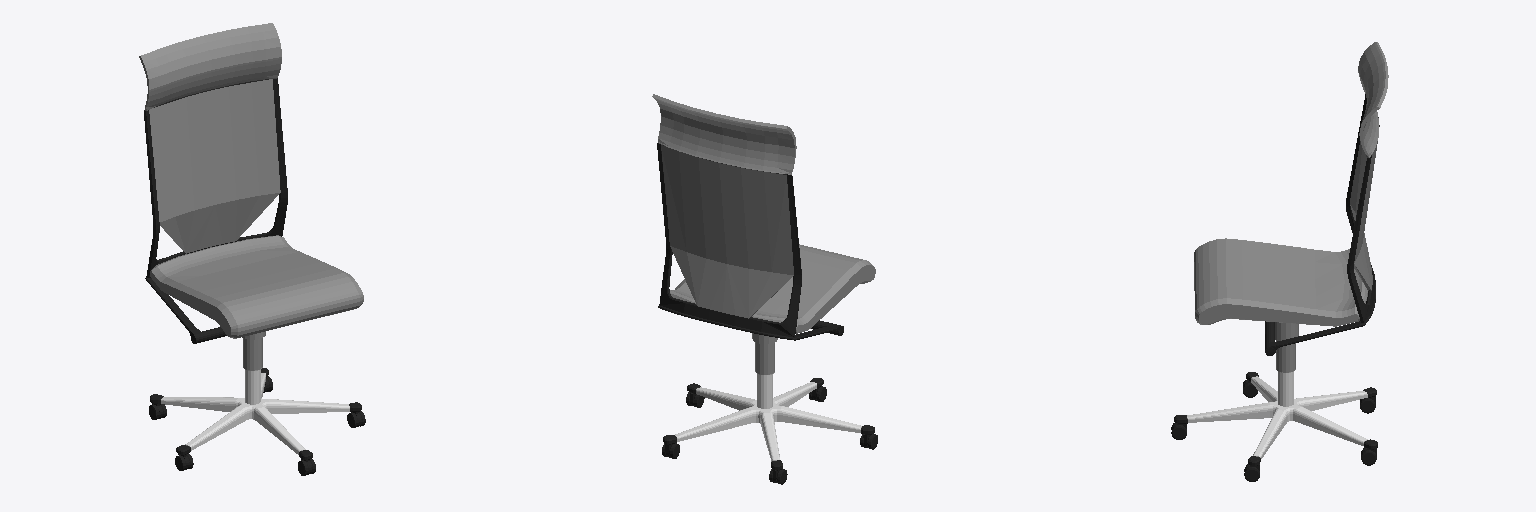
The picture shows the model from 3 angles: view 1: azimuth 30°, elevation 25°; view 2: azimuth 150°, elevation 25°; view 3: azimuth 270°, elevation 25°; orthographic projection.
Parts seen in each view (by area): view 1: office_chair; view 2: office_chair; view 3: office_chair.
Part boxes in pixels (bbox=[...]): office_chair: bbox=[139, 23, 365, 475]; office_chair: bbox=[652, 94, 877, 484]; office_chair: bbox=[1171, 42, 1388, 481].
Size of the model in its own units: 1.07 by 2 by 1.08.
Materials: 1 (1 with a texture image).